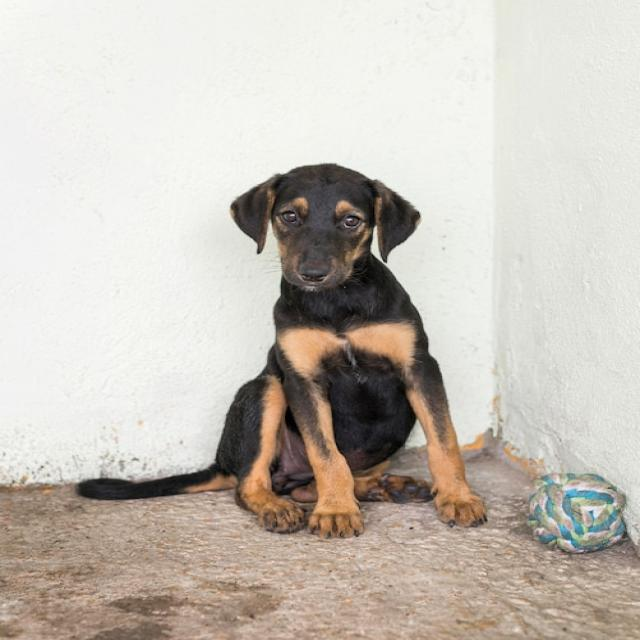Dog: (80, 161, 490, 538)
